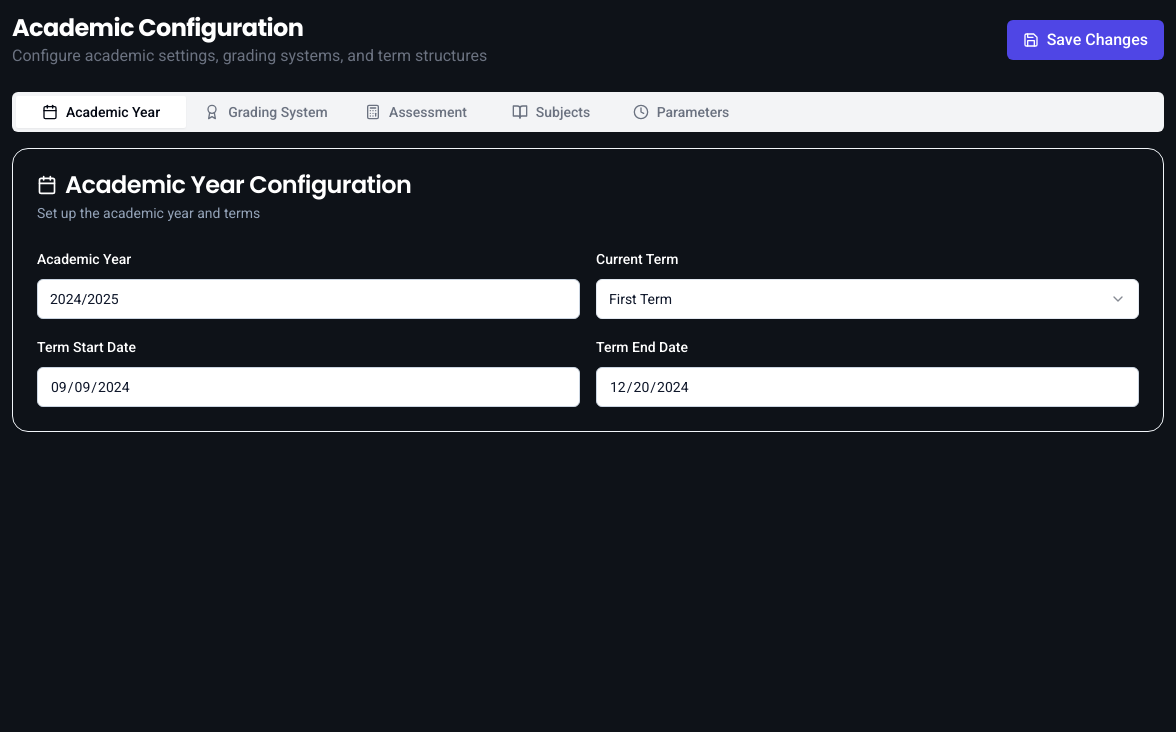
Test case: AcademicConfiguration › handles tab switching
The width and height of the screenshot is (1176, 732).
Check: the tab "Academic Year" is shown, box [16,96,186,128]
Click the tab "Grading System" at (266, 112), box [186,96,346,128]
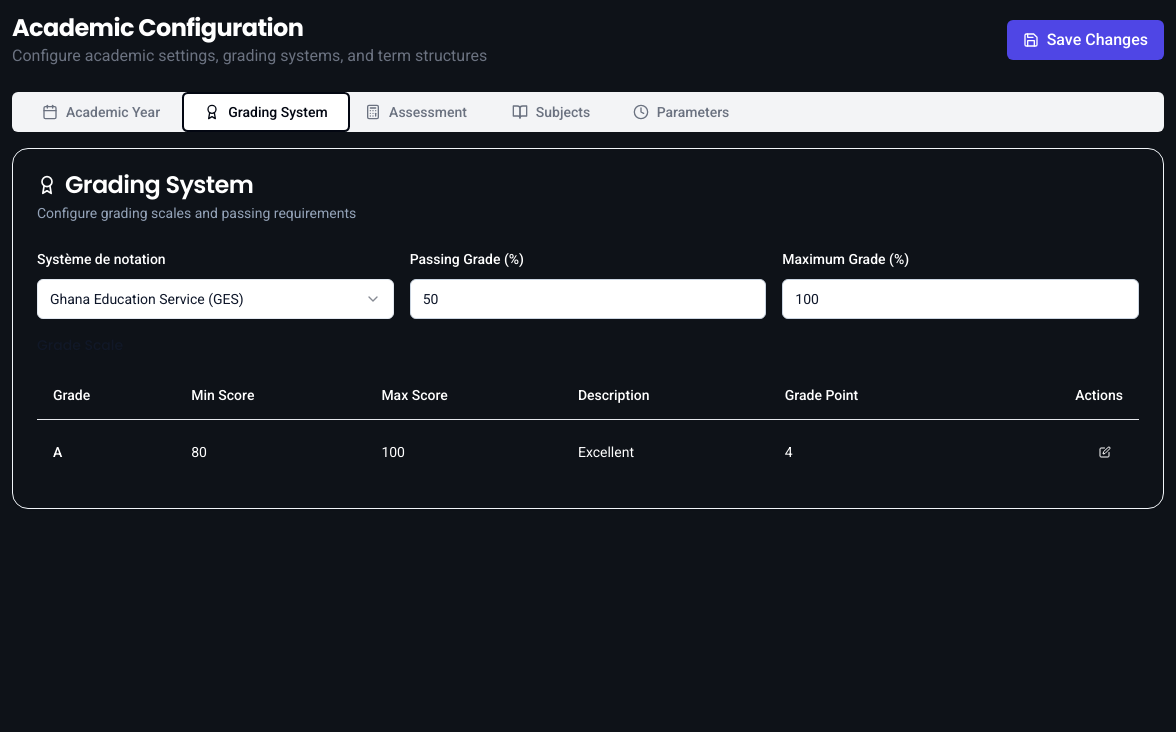
Check: the text "Excellent" is shown, box [578,444,634,460]
